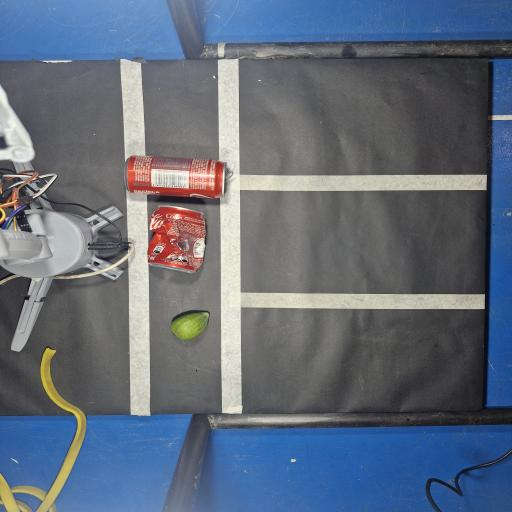higo: (170, 311, 209, 340)
lata: (123, 156, 226, 198)
lata_defectuoso: (148, 206, 205, 273)
